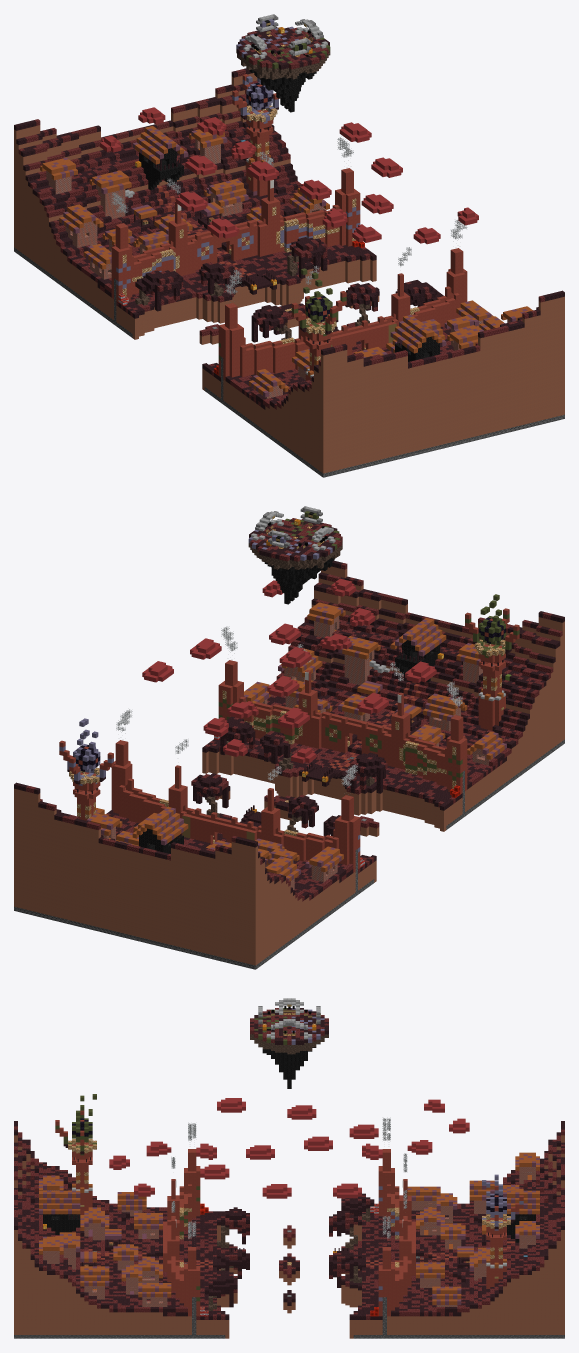
The model's file is minecraft.obj.
The picture shows the model from 3 angles, top to bottom: view 1: azimuth 30°, elevation 25°; view 2: azimuth 150°, elevation 25°; view 3: azimuth 270°, elevation 25°; orthographic projection. The views are drawn at different scales.
Bounding box in the file's own units: 600 × 730 × 1330.
